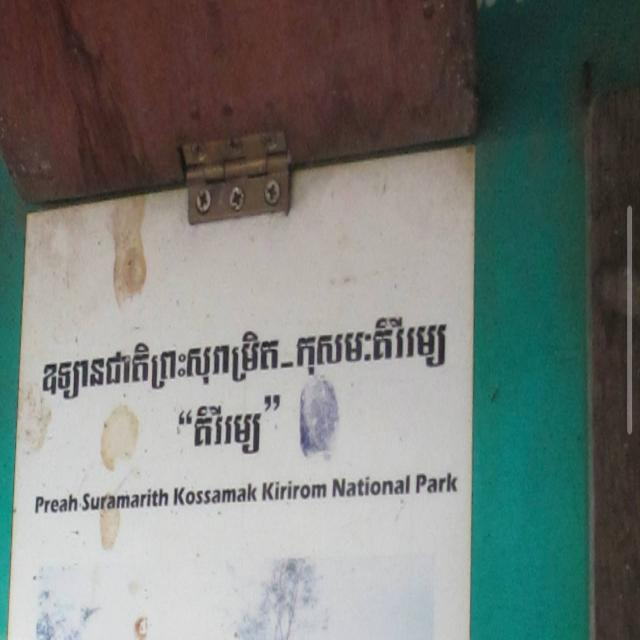189: (38, 300, 454, 406)
Yolov11kh: (175, 393, 284, 457)
